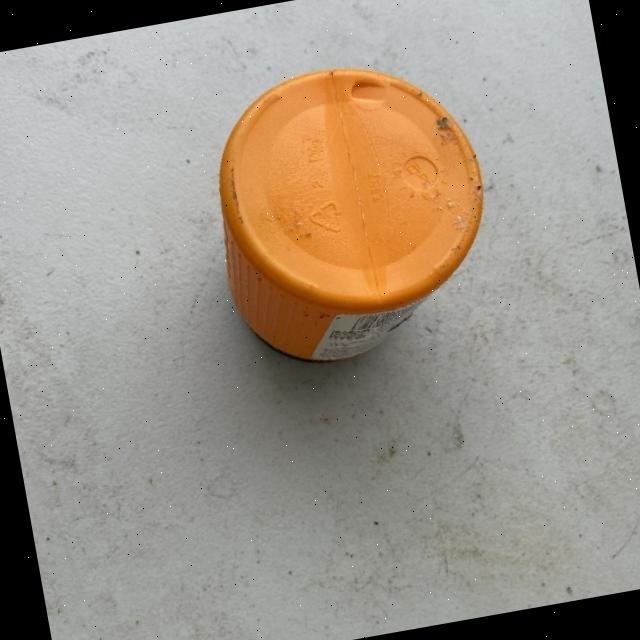plastic: (193, 43, 508, 377)
